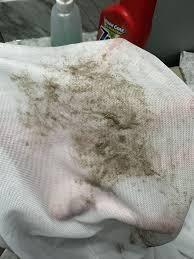earth: (70, 71, 157, 178)
